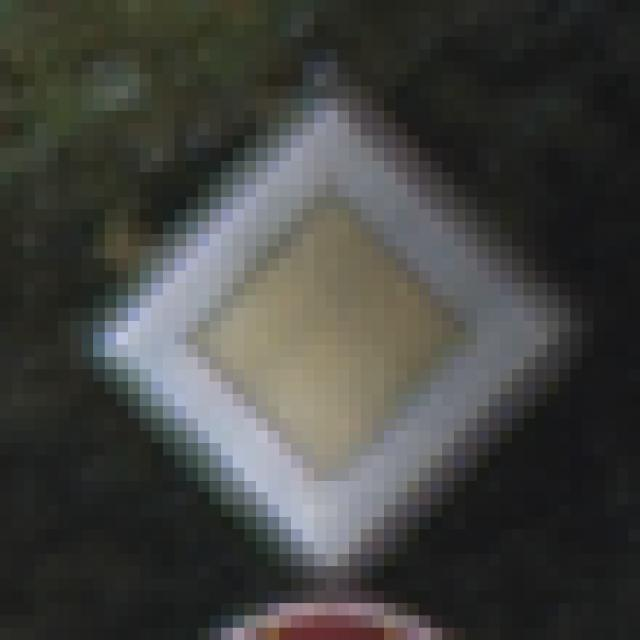Main Road: (71, 63, 571, 580)
